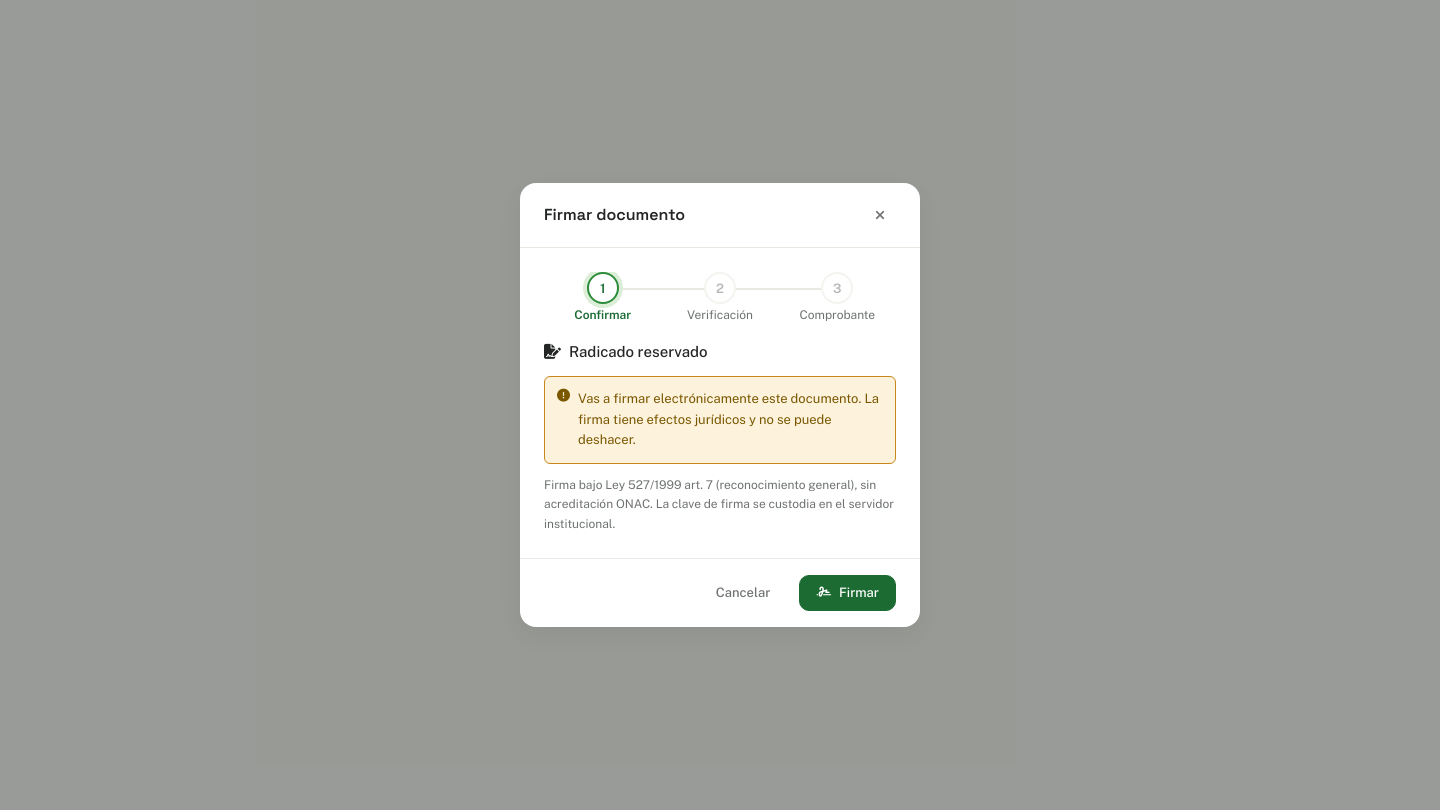
Test: SignAssistant — segundo factor OTP (E06 Inc.2) › otp_incorrecto (401) muestra el mensaje y los intentos restantes, no avanza al comprobante
The width and height of the screenshot is (1440, 810).
Click the 2nd button named "Firmar": (848, 593) left=799, top=575, right=896, bottom=611
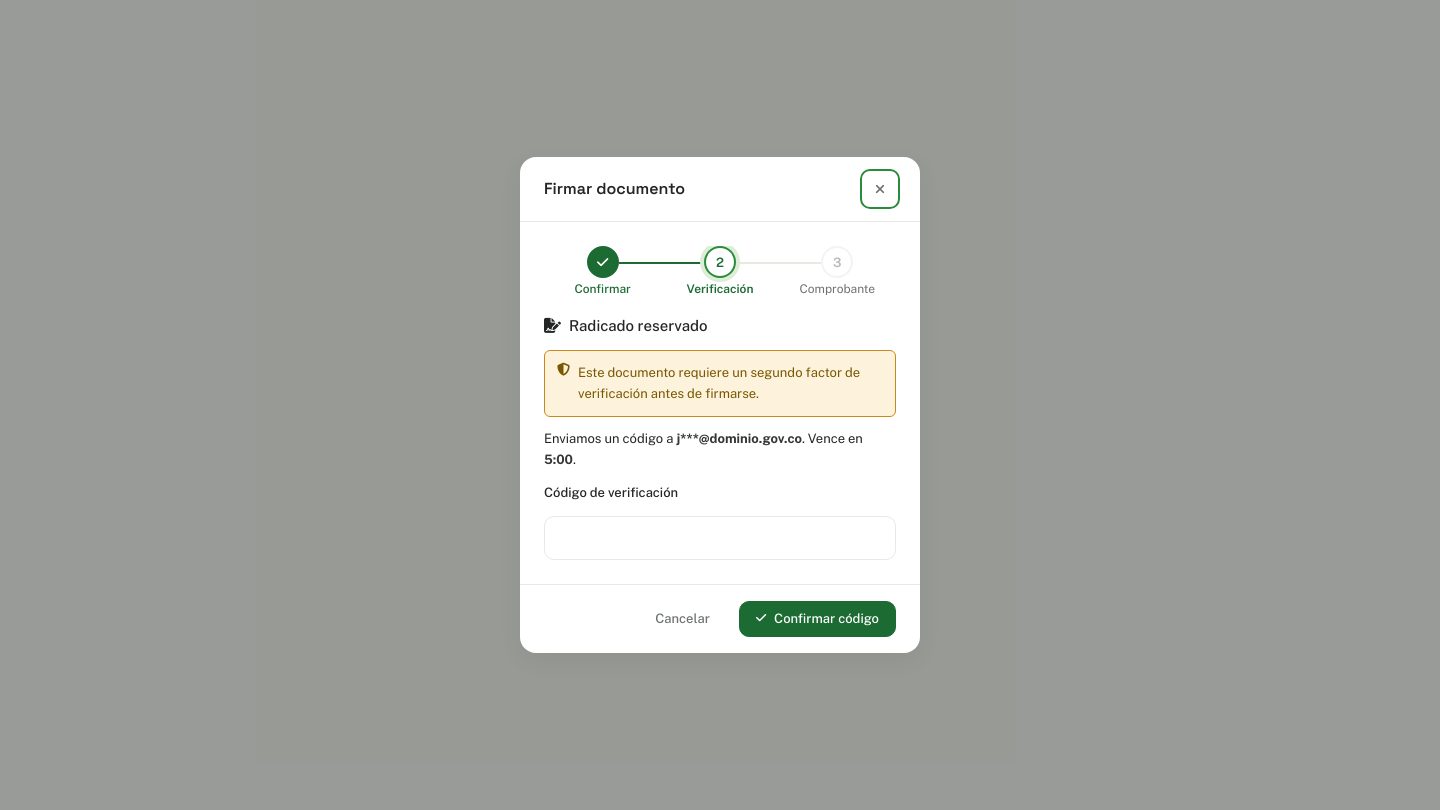
expect the field labelled "Código de verificación" is shown: met
In the field labelled "Código de verificación": (720, 538) left=544, top=516, right=896, bottom=560, type "000000"
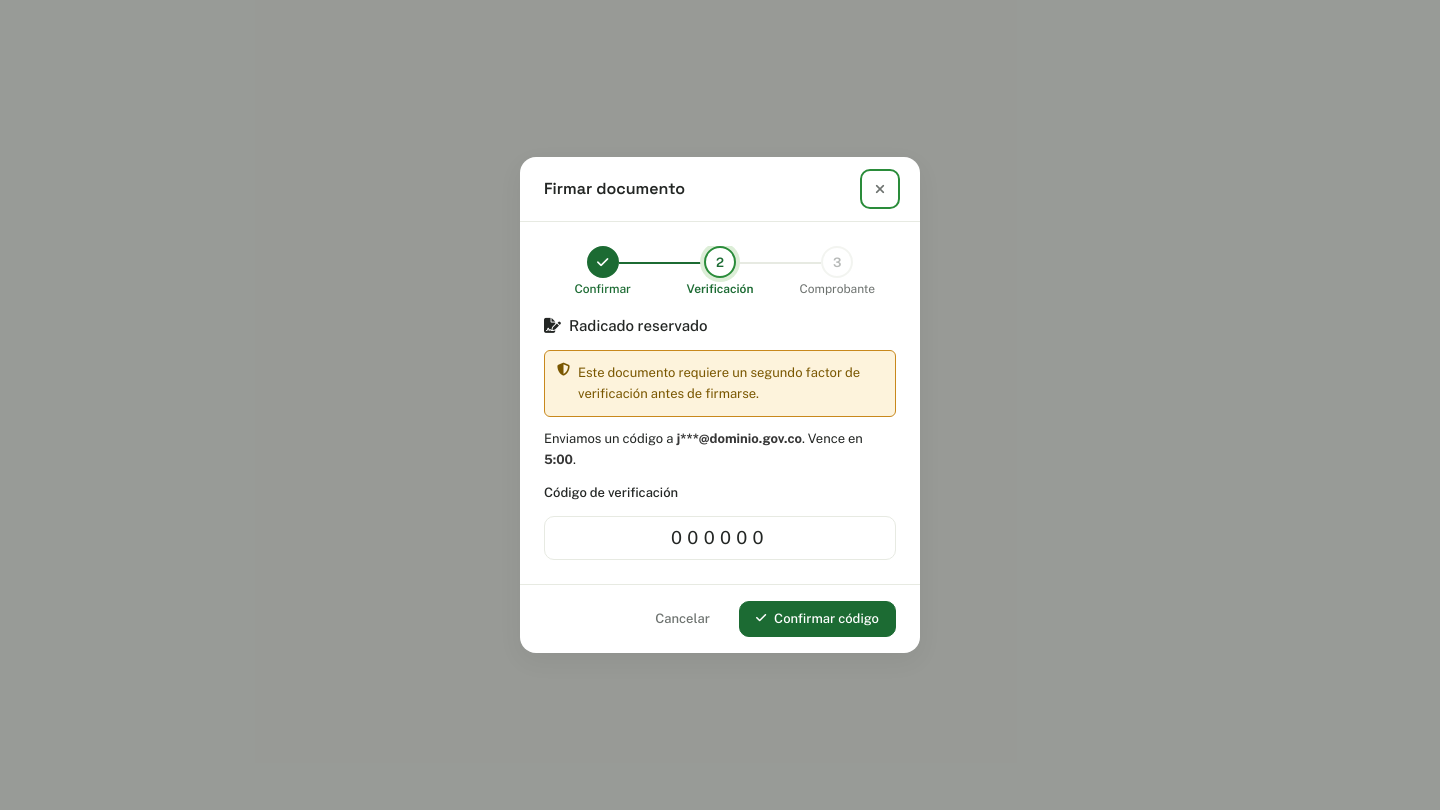
Click the 2nd button named "Confirmar código": (817, 619) left=739, top=601, right=896, bottom=637
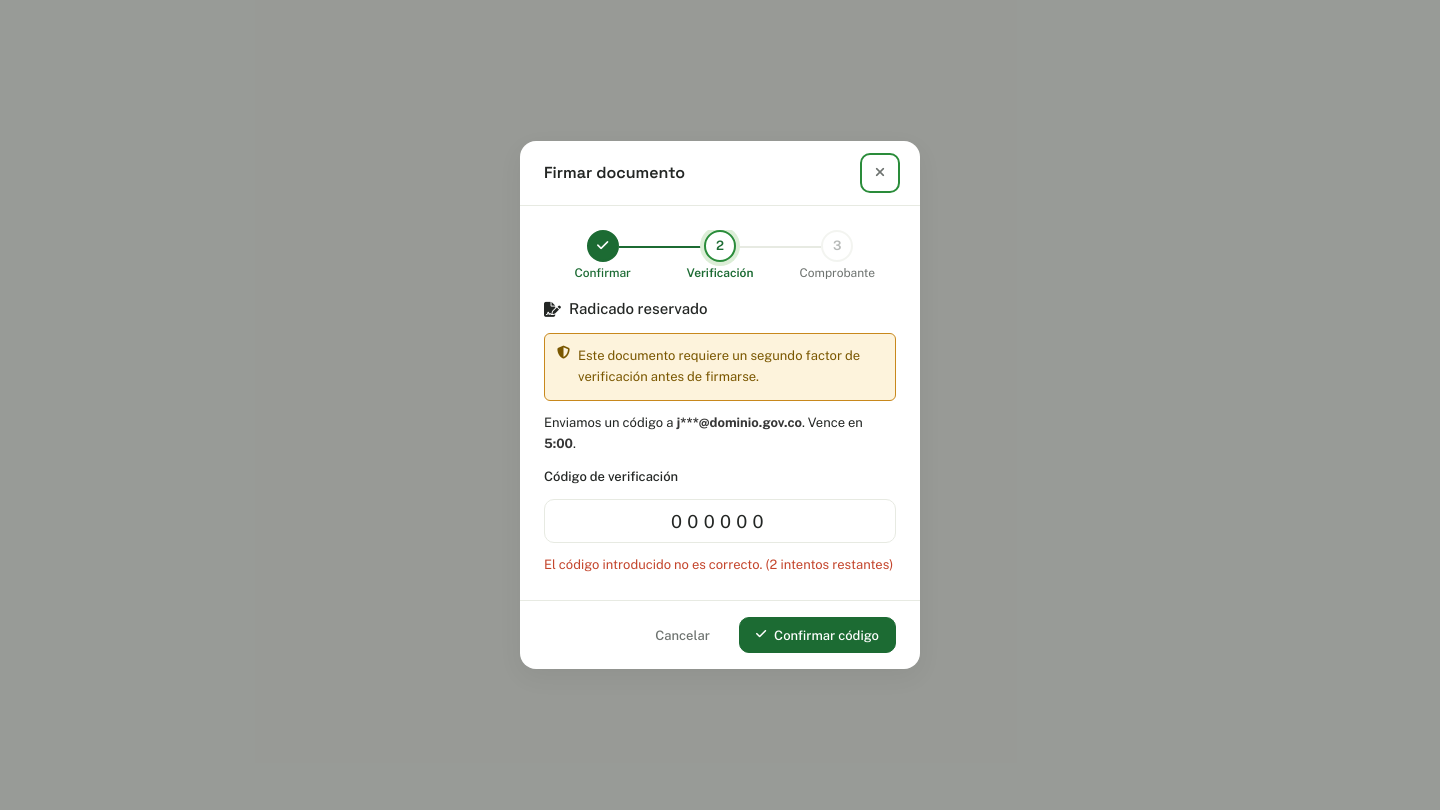
expect the text "El código introducido no es correcto. (2 intentos restantes)" is shown: met, box left=544, top=555, right=896, bottom=576
